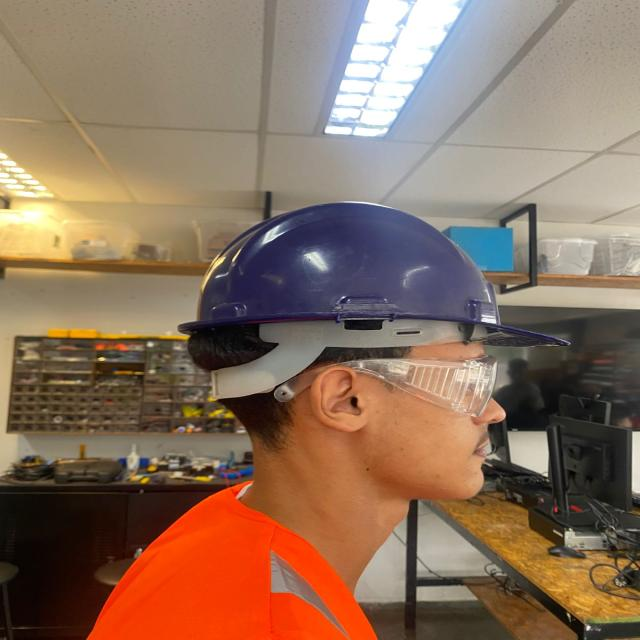CAPACETE: (181, 196, 573, 404)
COLETE: (79, 474, 396, 640)
OCULOS: (274, 354, 503, 423)
